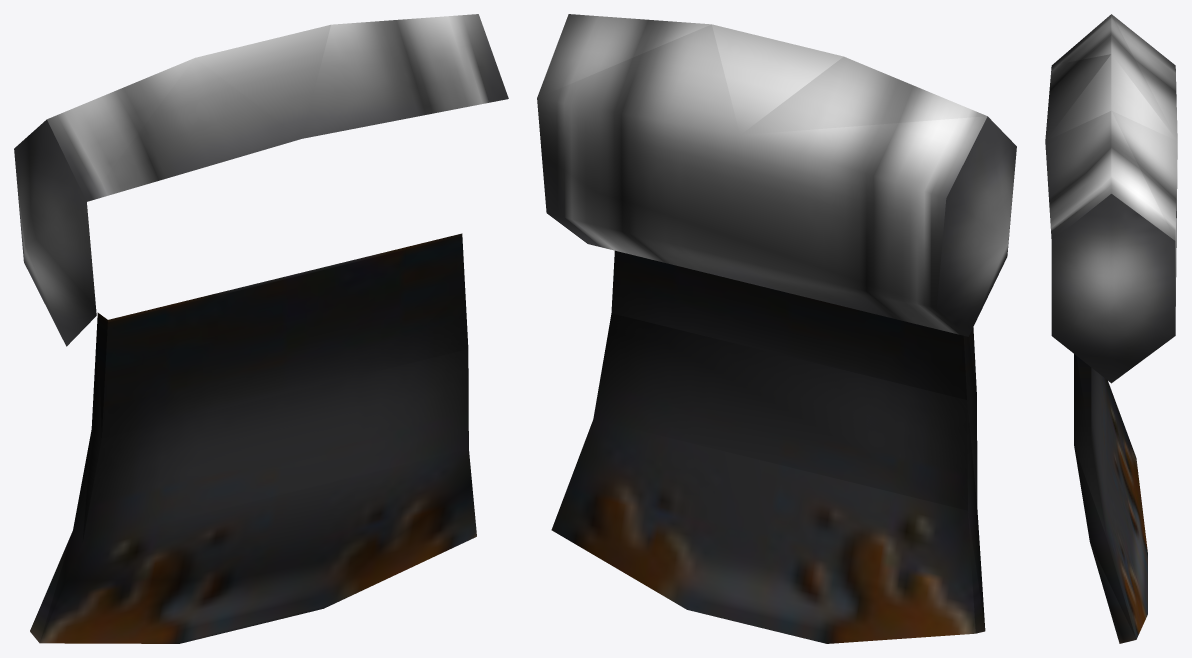
File: acc_31.glb
3 renders of one model, left to right at view 1: azimuth 30°, elevation 25°; view 2: azimuth 150°, elevation 25°; view 3: azimuth 270°, elevation 25°, orthographic. The views are drawn at different scales.
Parts seen in each view (by area): view 1: pCube1, accessory_rear_ww_4; view 2: pCube1, accessory_rear_ww_4; view 3: accessory_rear_ww_4, pCube1.
Boxes of the visible parts, x1,y1,x2,y2 form: pCube1: [30, 233, 476, 643]; accessory_rear_ww_4: [14, 14, 508, 346]; pCube1: [551, 250, 985, 643]; accessory_rear_ww_4: [537, 14, 1016, 336]; accessory_rear_ww_4: [1045, 14, 1177, 383]; pCube1: [1074, 354, 1147, 643].
Bounding box in the file's own units: 0.3872 × 0.4628 × 0.1098.
1 material, 1 textured.
